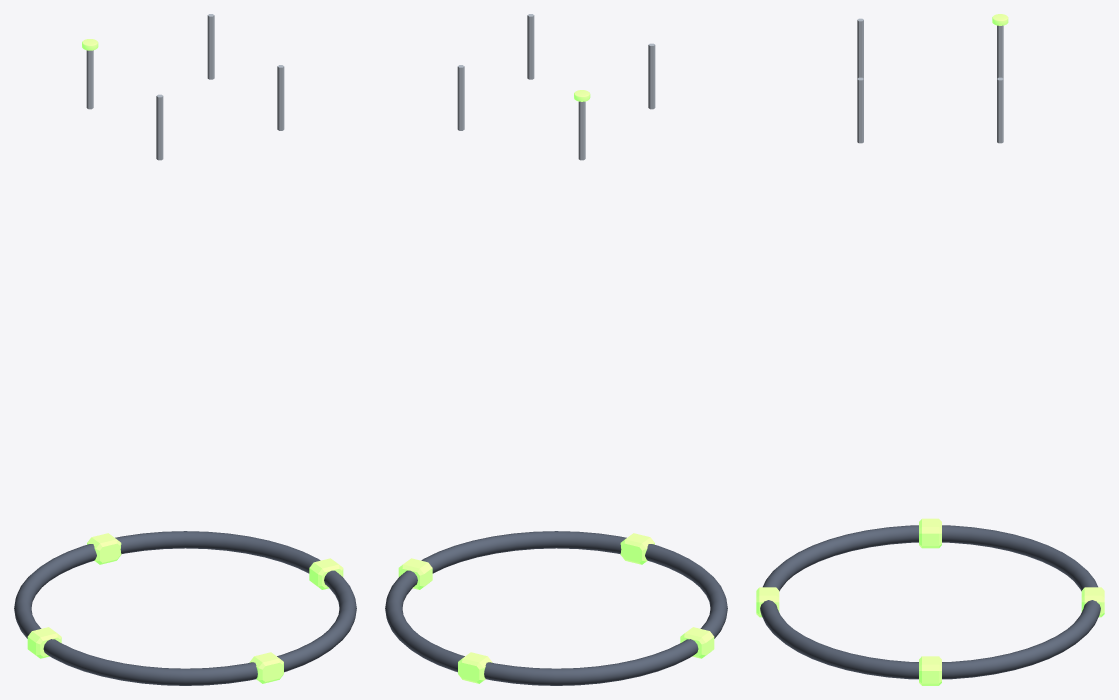
The model's file is tower_detector_field_s3.glb.
3 renders of one model, left to right at view 1: azimuth 30°, elevation 25°; view 2: azimuth 150°, elevation 25°; view 3: azimuth 270°, elevation 25°, orthographic.
Visible parts, largest first — view 1: detector_base_ring, detector_base_node3, detector_base_node1, detector_base_node0, detector_base_node2, detector_stub2, detector_stub3, detector_stub1; view 2: detector_base_ring, detector_base_node1, detector_base_node3, detector_base_node0, detector_base_node2, detector_stub3, detector_stub1, detector_stub2; view 3: detector_base_ring, detector_base_node0, detector_base_node2.
Boxes of the visible parts, x1,y1,x2,y2 form: detector_base_ring: (14,531,356,685); detector_base_node3: (249,652,283,683); detector_base_node1: (87,533,121,564); detector_base_node0: (27,627,61,658); detector_base_node2: (309,558,343,589); detector_stub2: (277,65,284,130); detector_stub3: (156,94,163,160); detector_stub1: (207,14,214,79); detector_base_ring: (385,531,727,685); detector_base_node1: (458,652,492,683); detector_base_node3: (620,533,654,564); detector_base_node0: (680,627,714,658); detector_base_node2: (398,558,432,589); detector_stub3: (648,43,655,109); detector_stub1: (457,65,464,130); detector_stub2: (527,14,534,79); detector_base_ring: (760,525,1100,679); detector_base_node0: (919,518,941,548); detector_base_node2: (919,656,941,685).
Size of the model in its own units: 1.22 by 2.15 by 1.2.
